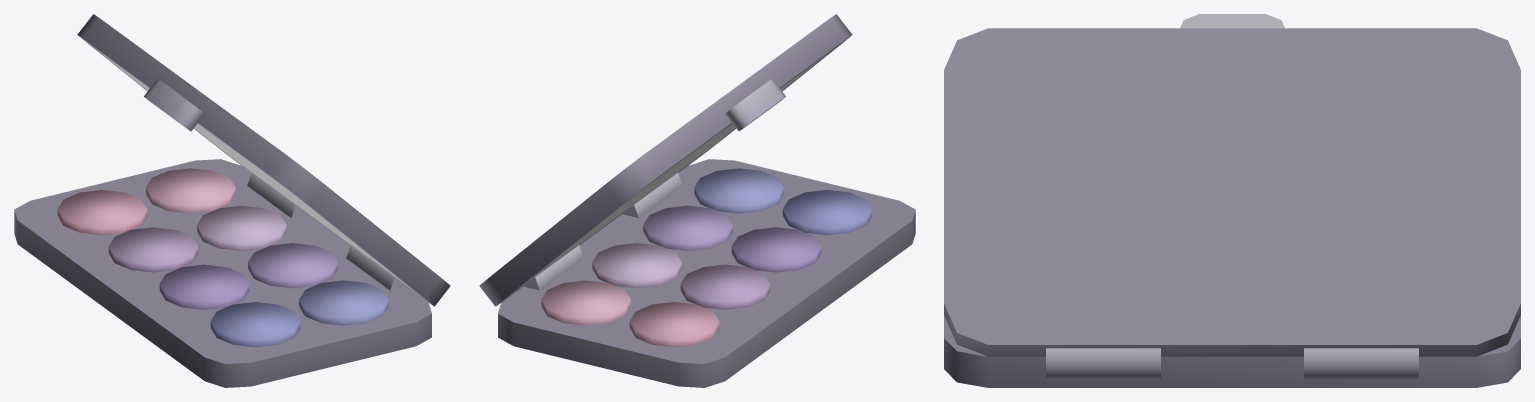
File: makeup-palette-wide.glb
3 views of the same model, side by side, from view 1: azimuth 30°, elevation 25°; view 2: azimuth 150°, elevation 25°; view 3: azimuth 270°, elevation 25° (orthographic). The views are drawn at different scales.
Visible parts, largest first — view 1: makeup-palette-wide; view 2: makeup-palette-wide; view 3: makeup-palette-wide.
Boxes of the visible parts, x1,y1,x2,y2 form: makeup-palette-wide: (14,14,450,387); makeup-palette-wide: (479,14,915,387); makeup-palette-wide: (944,14,1520,387).
Size of the model in its own units: 0.1632 by 0.1348 by 0.26.
